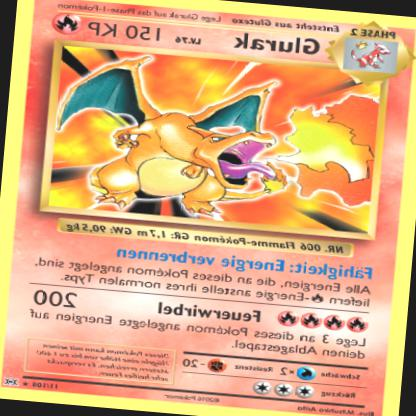Charizard: (52, 49, 286, 225)
